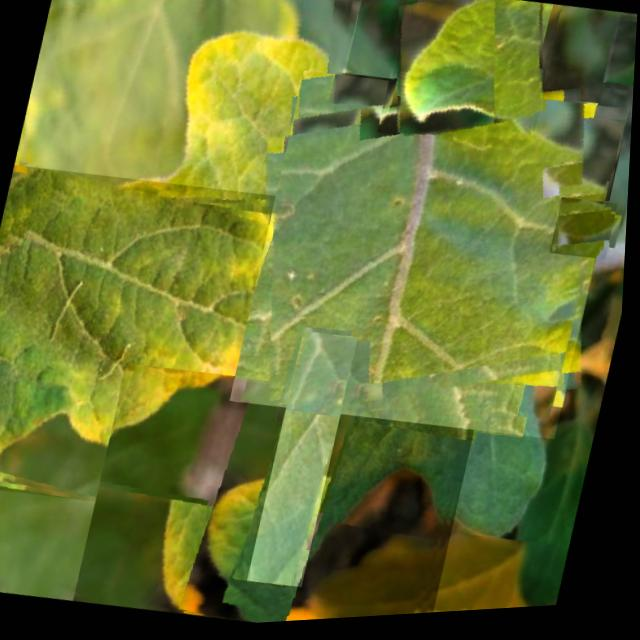leaf_spot: (231, 59, 632, 462), (0, 150, 331, 537), (78, 348, 487, 635), (7, 0, 365, 245), (377, 0, 564, 164), (252, 332, 362, 594), (551, 201, 620, 269), (604, 21, 638, 107)
